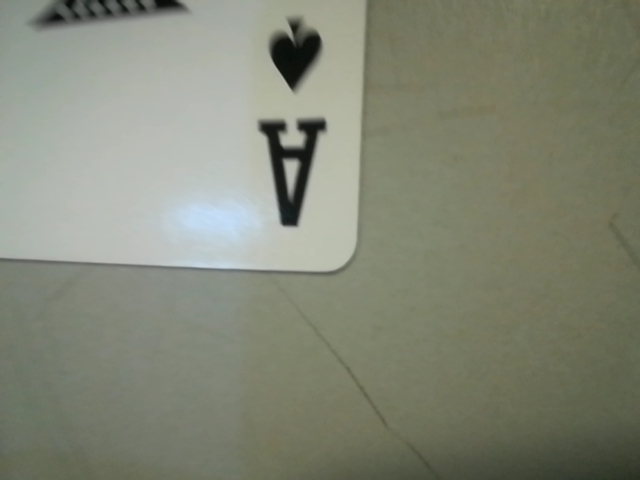ht a: (235, 0, 350, 248)
